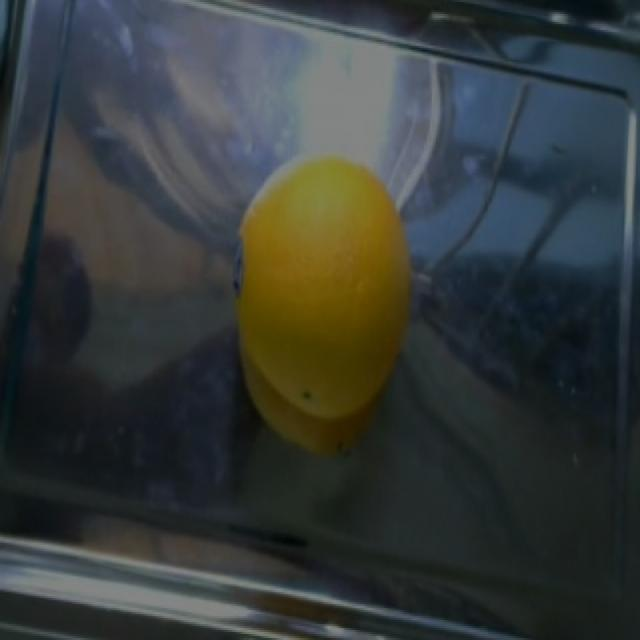Fruit: (224, 143, 421, 465)
